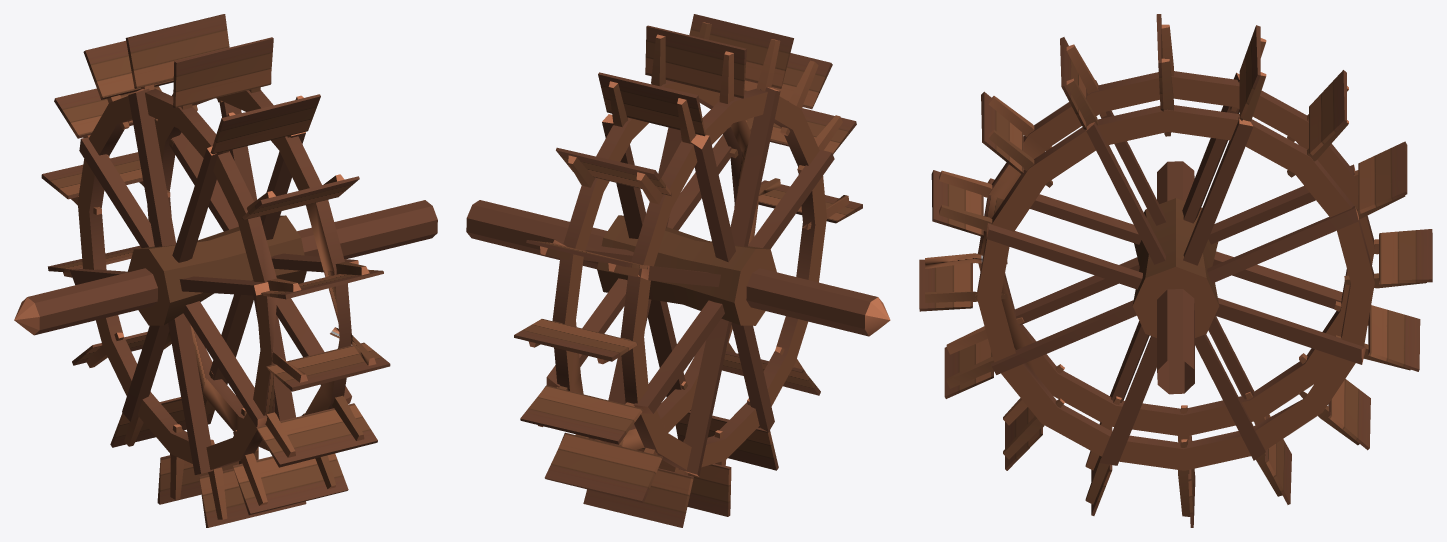
The model's file is watermil.obj.
3 renders of one model, left to right at view 1: azimuth 30°, elevation 25°; view 2: azimuth 150°, elevation 25°; view 3: azimuth 270°, elevation 25°, orthographic. The views are drawn at different scales.
Visible parts, largest first — view 1: Mill-water-wheel; view 2: Mill-water-wheel; view 3: Mill-water-wheel.
Boxes of the visible parts, bbox=[...] form: Mill-water-wheel: bbox=[14, 14, 437, 527]; Mill-water-wheel: bbox=[466, 14, 890, 527]; Mill-water-wheel: bbox=[919, 14, 1432, 527].
Bounding box in the file's own units: 6.65 × 6.97 × 6.97.
Materials: 1 (1 with a texture image).
